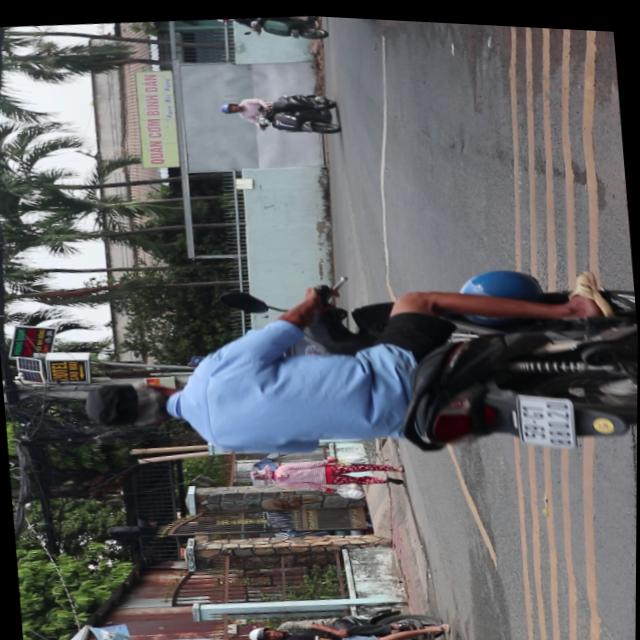helmet: (246, 622, 283, 640), (247, 638, 286, 640)
licenseplate: (69, 235, 639, 495), (242, 593, 466, 640)
motorcyclist: (79, 372, 181, 434)
nohelmet: (514, 386, 576, 446)
